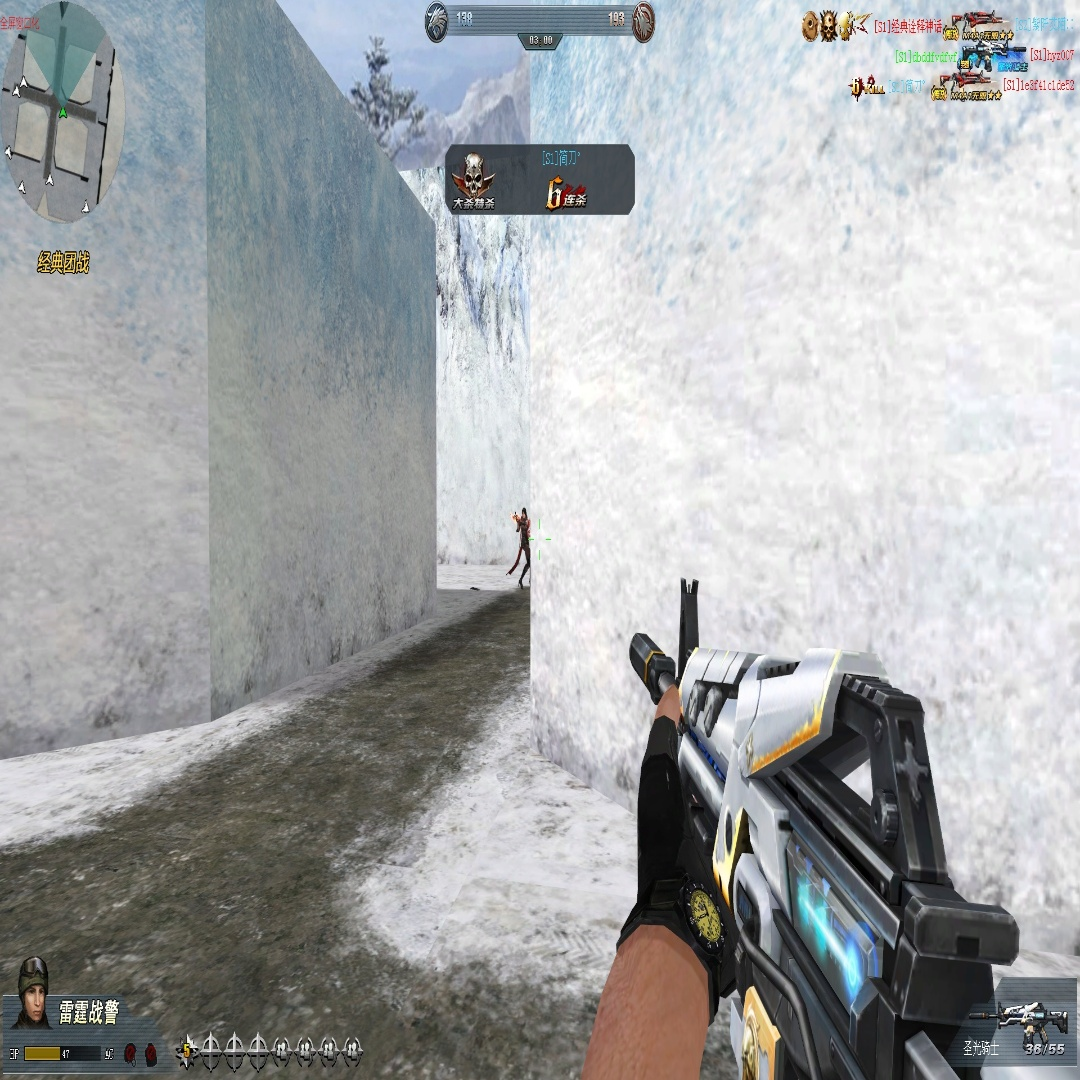t: (512, 505, 531, 593)
